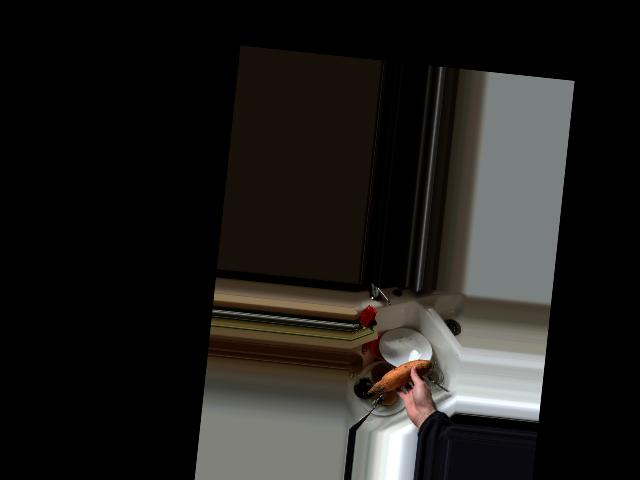sweet_potato: (368, 352, 433, 402)
